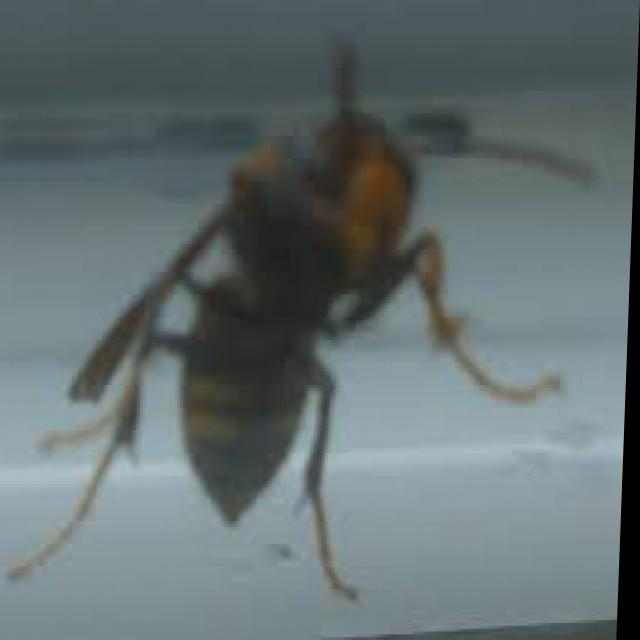Vespa Velutina: (0, 32, 608, 616)
